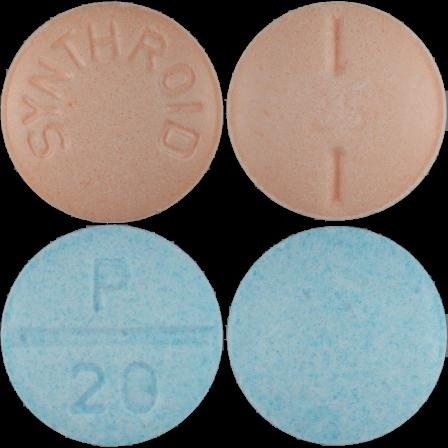68258-5974: (0, 0, 224, 224)
